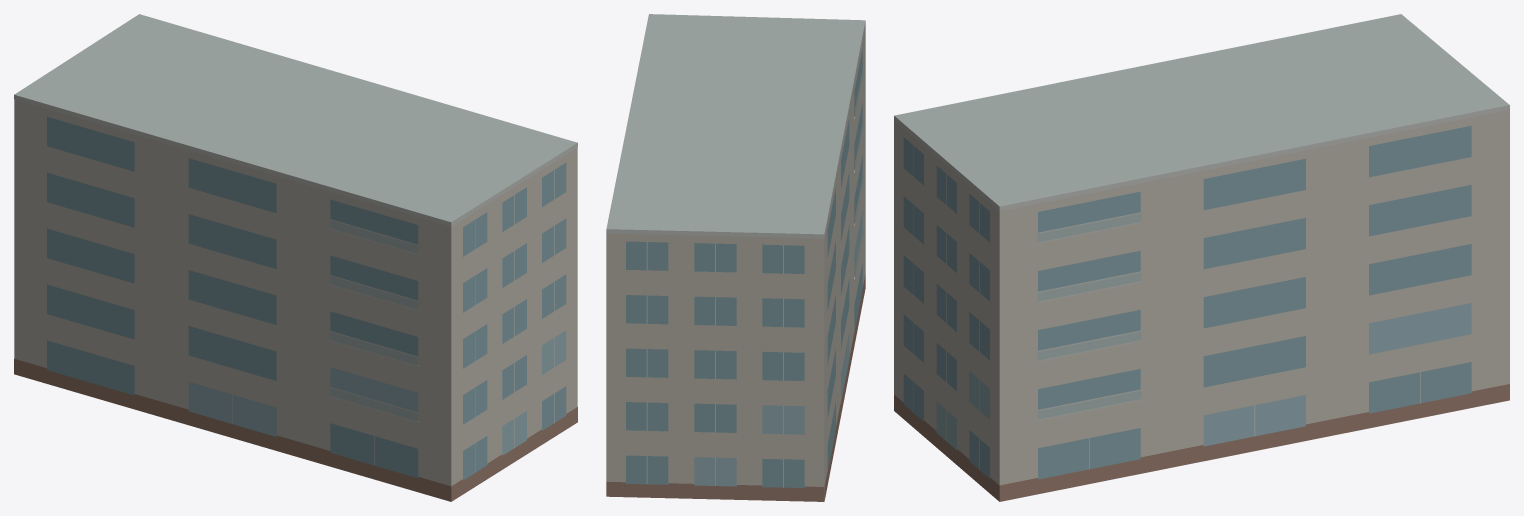
Rendered from survey-upis-33006970.glb.
3 views of the same model, side by side, from view 1: azimuth 30°, elevation 25°; view 2: azimuth 150°, elevation 25°; view 3: azimuth 270°, elevation 25° (orthographic). The views are drawn at different scales.
Visible parts, largest first — view 1: survey-upis-33006970.tmp; view 2: survey-upis-33006970.tmp; view 3: survey-upis-33006970.tmp.
Part boxes in pixels (bbox=[...]): survey-upis-33006970.tmp: bbox=[14, 14, 577, 501]; survey-upis-33006970.tmp: bbox=[606, 14, 865, 501]; survey-upis-33006970.tmp: bbox=[894, 14, 1509, 501].
Size of the model in its own units: 21.12 by 15.1 by 28.54.
